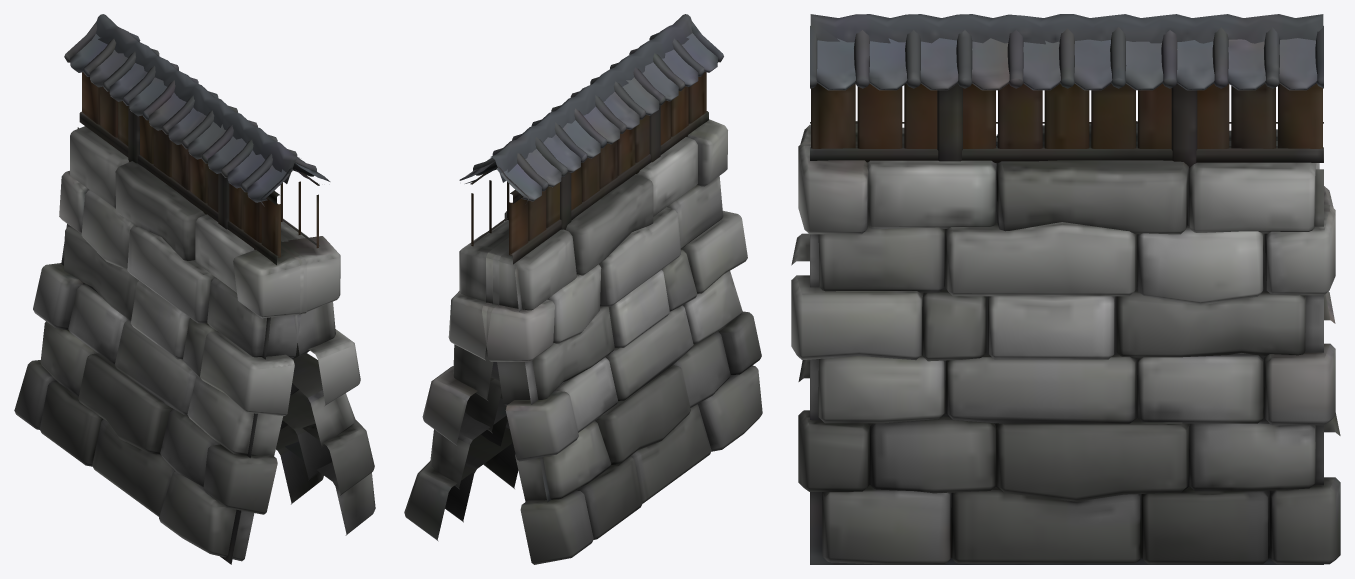
The model's file is mini-tower.glb.
3 renders of one model, left to right at view 1: azimuth 30°, elevation 25°; view 2: azimuth 150°, elevation 25°; view 3: azimuth 270°, elevation 25°, orthographic. The views are drawn at different scales.
Parts seen in each view (by area): view 1: Muraille_Droit; view 2: Muraille_Droit; view 3: Muraille_Droit.
Part boxes in pixels (bbox=[...]): Muraille_Droit: bbox=[14, 14, 375, 564]; Muraille_Droit: bbox=[404, 14, 762, 564]; Muraille_Droit: bbox=[791, 14, 1340, 564].
Size of the model in its own units: 523 by 1109 by 1069.
1 material, 1 textured.
